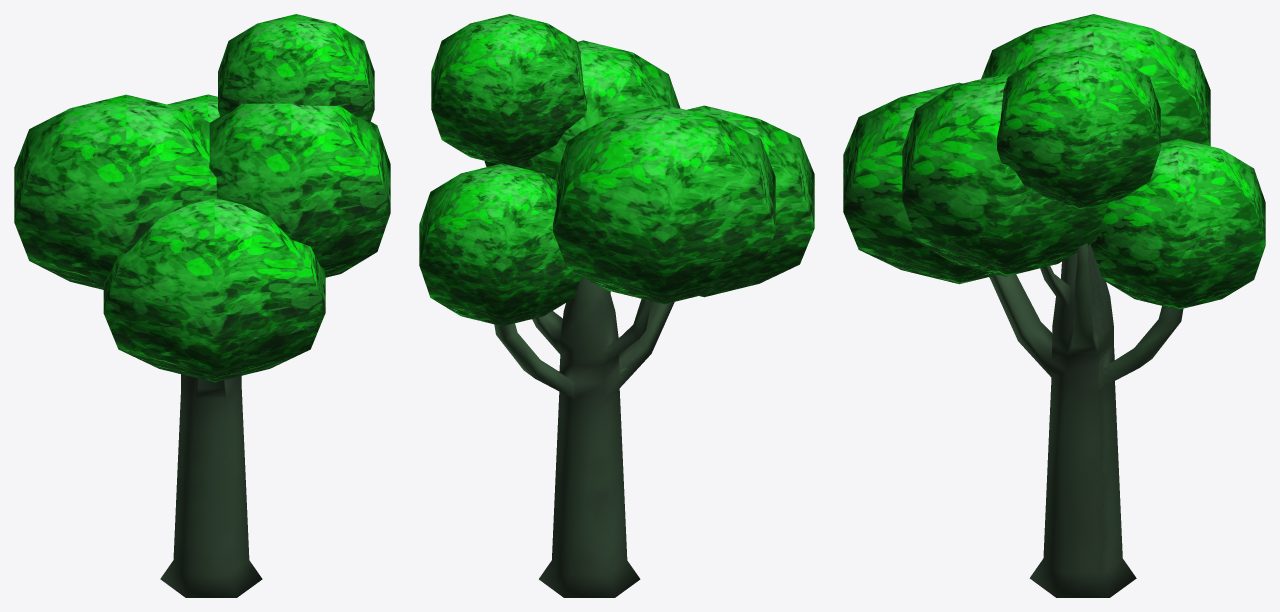
The model's file is tree.fbx.
The picture shows the model from 3 angles, left to right: view 1: azimuth 30°, elevation 25°; view 2: azimuth 150°, elevation 25°; view 3: azimuth 270°, elevation 25°; orthographic projection. The views are drawn at different scales.
Visible parts, largest first — view 1: pSphere4, pSphere1, pSphere3, pCylinder1, pSphere5, pSphere2; view 2: pSphere1, pCylinder1, pSphere2, pSphere5, pSphere4, pSphere3; view 3: pCylinder1, pSphere3, pSphere2, pSphere5, pSphere4, pSphere1.
Boxes of the visible parts, box(x1,y1,x2,y2) form: pSphere4: box(103, 198, 325, 382); pSphere1: box(14, 94, 217, 289); pSphere3: box(209, 103, 390, 277); pCylinder1: box(160, 374, 262, 597); pSphere5: box(218, 14, 374, 122); pSphere2: box(167, 94, 219, 122); pSphere1: box(553, 104, 775, 304); pCylinder1: box(494, 277, 674, 597); pSphere2: box(419, 163, 581, 326); pSphere5: box(431, 14, 586, 165); pSphere4: box(687, 105, 814, 297); pSphere3: box(484, 40, 680, 179); pCylinder1: box(989, 243, 1183, 597); pSphere3: box(902, 73, 1108, 276); pSphere2: box(1091, 138, 1265, 309); pSphere5: box(997, 49, 1160, 209); pSphere4: box(843, 82, 997, 284); pSphere1: box(981, 14, 1210, 146).
Bounding box in the file's own units: 549 × 796 × 543.
